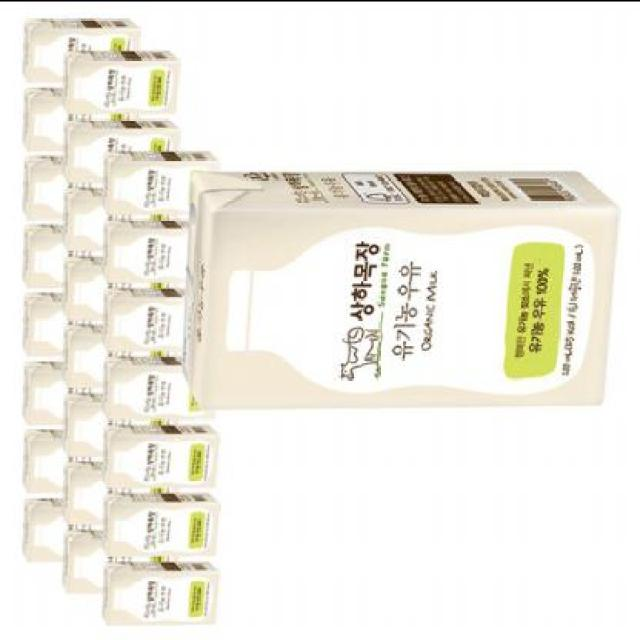tetra: (162, 147, 636, 421)
